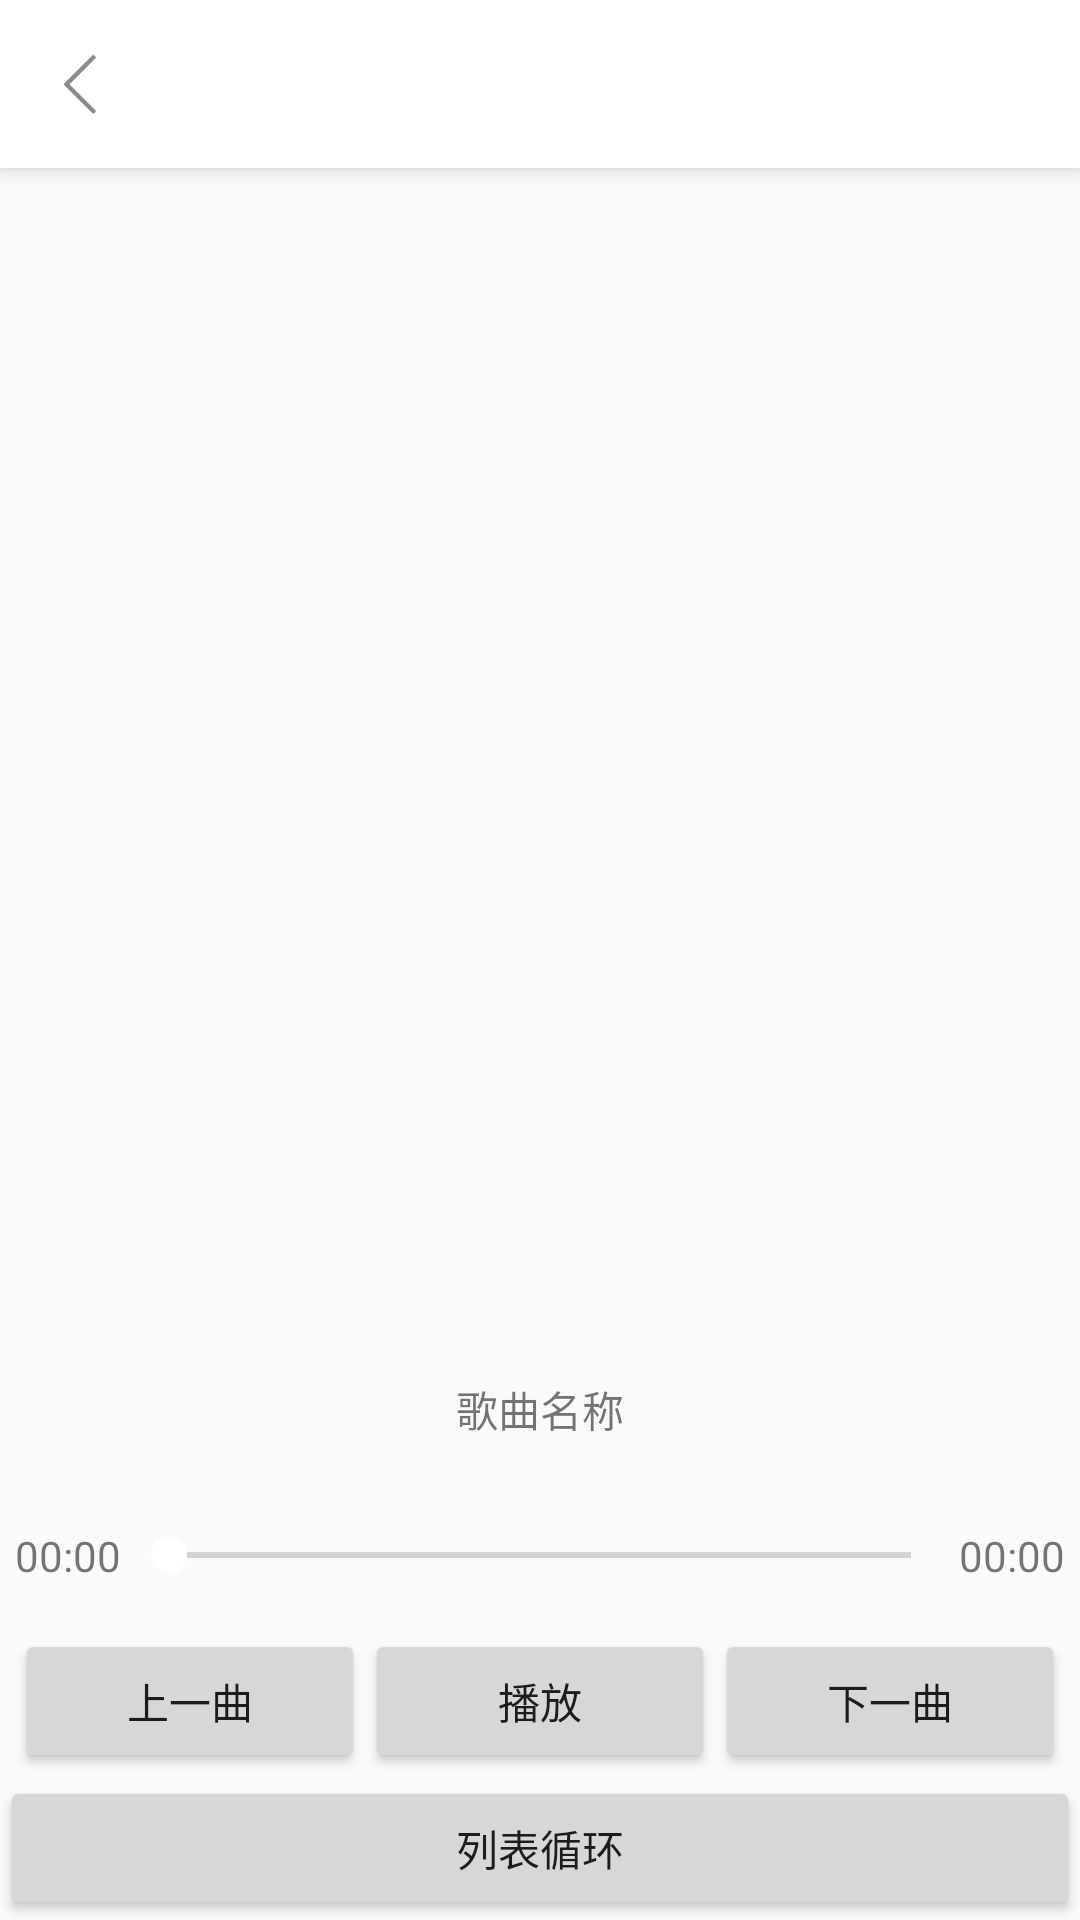

Screen size 1080*1920. Icon name, then its center in pixels as [x,y]:
back: [80,84]
